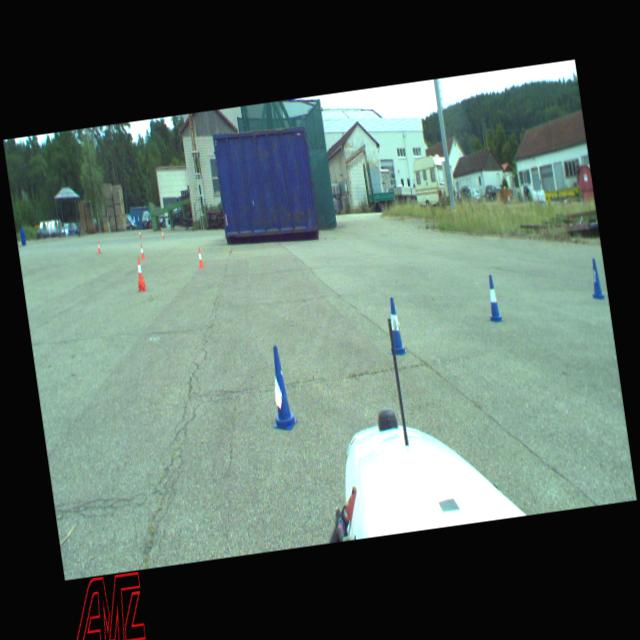blue_cone: (263, 344, 298, 432), (382, 296, 407, 356), (482, 274, 503, 323), (587, 258, 606, 300)
orange_cone: (135, 256, 144, 282), (197, 248, 204, 268), (139, 243, 145, 259), (97, 242, 102, 254), (138, 230, 142, 238), (162, 230, 164, 238)
